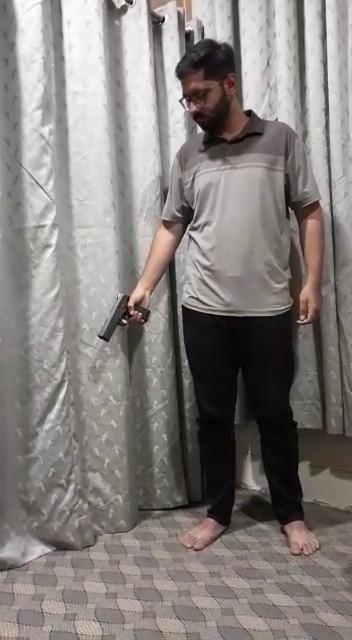criminal: (94, 35, 327, 561)
weapon: (97, 293, 157, 343)
